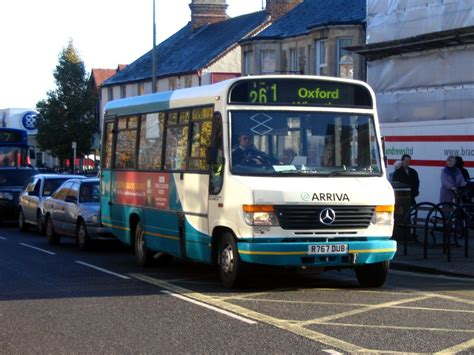bus: (102, 102, 392, 282)
